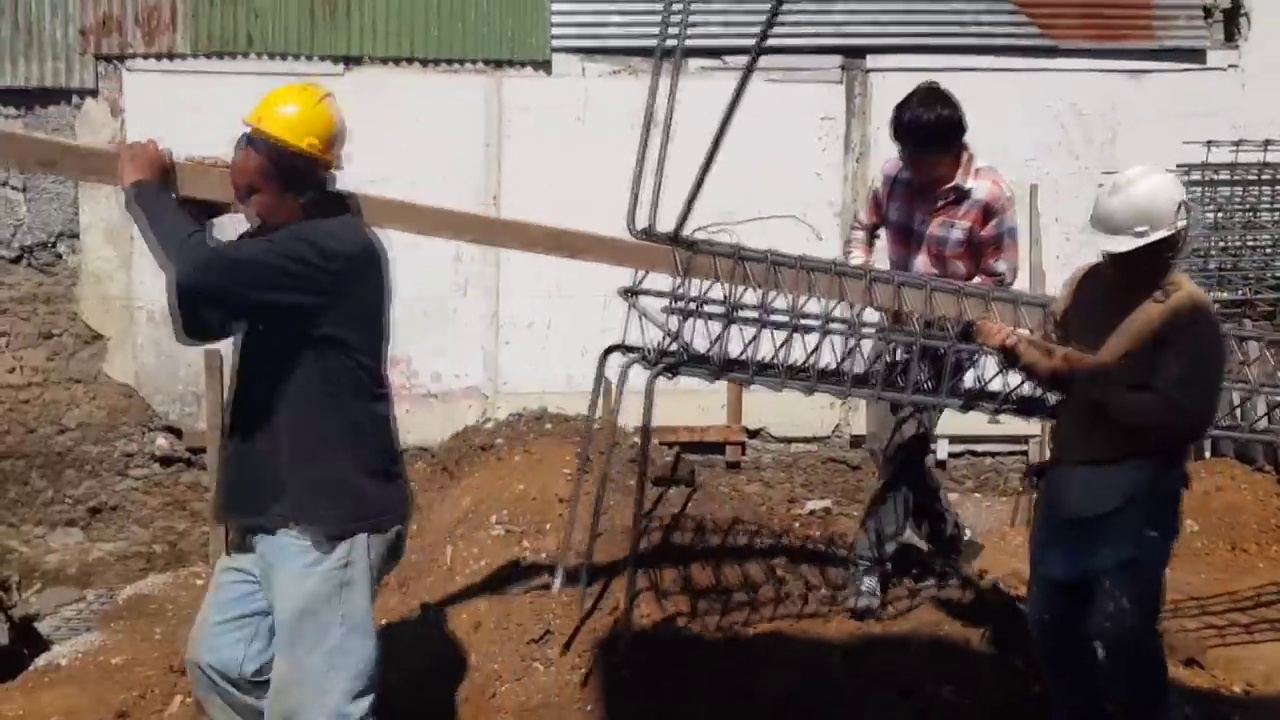helmet: (1095, 160, 1204, 252), (234, 79, 341, 168)
helmet-off: (888, 78, 980, 204)
helmet-on: (229, 74, 348, 234), (1083, 158, 1209, 294)
person: (147, 62, 405, 720), (976, 151, 1226, 720), (844, 80, 1009, 620)
